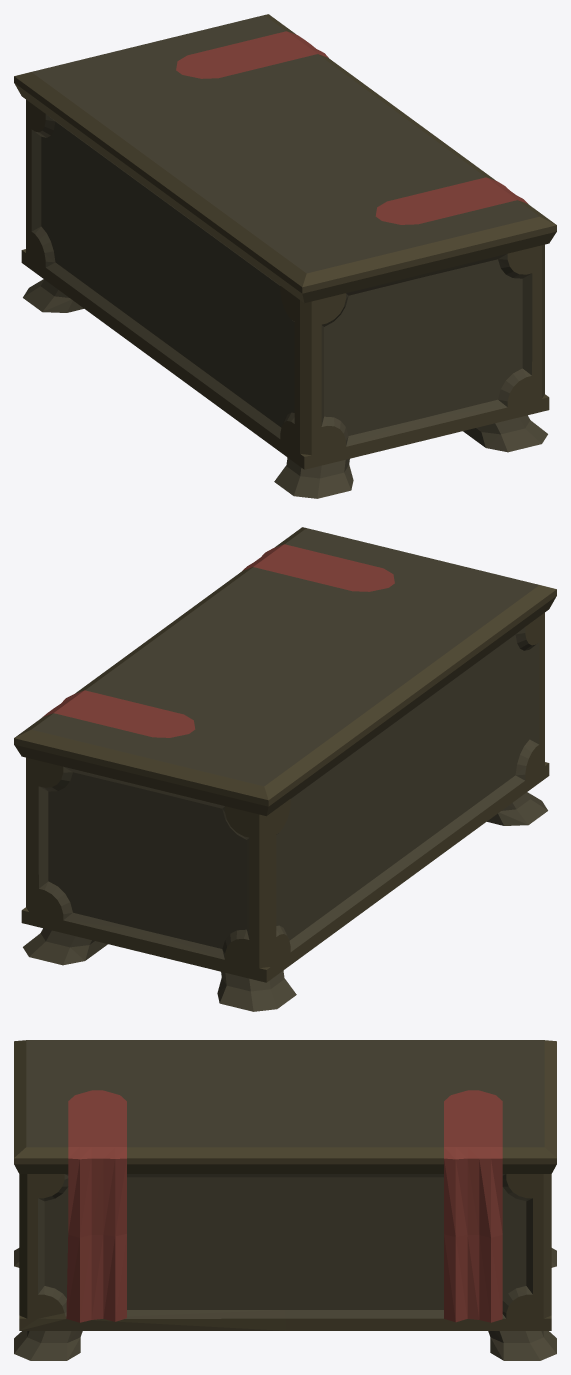
Rendered from NW_MONASTERY_ALTAR_01.OBJ.
3 views of the same model, one above another, from view 1: azimuth 30°, elevation 25°; view 2: azimuth 150°, elevation 25°; view 3: azimuth 270°, elevation 25° (orthographic). The views are drawn at different scales.
Visible parts, largest first — view 1: NW_MONASTERY_ALTAR_01; view 2: NW_MONASTERY_ALTAR_01; view 3: NW_MONASTERY_ALTAR_01.
Part boxes in pixels (left/top/right/bottom): NW_MONASTERY_ALTAR_01: left=14, top=14, right=556, bottom=498; NW_MONASTERY_ALTAR_01: left=14, top=527, right=556, bottom=1011; NW_MONASTERY_ALTAR_01: left=14, top=1040, right=556, bottom=1360.
Size of the model in its own units: 1.17 by 0.9525 by 2.24.
